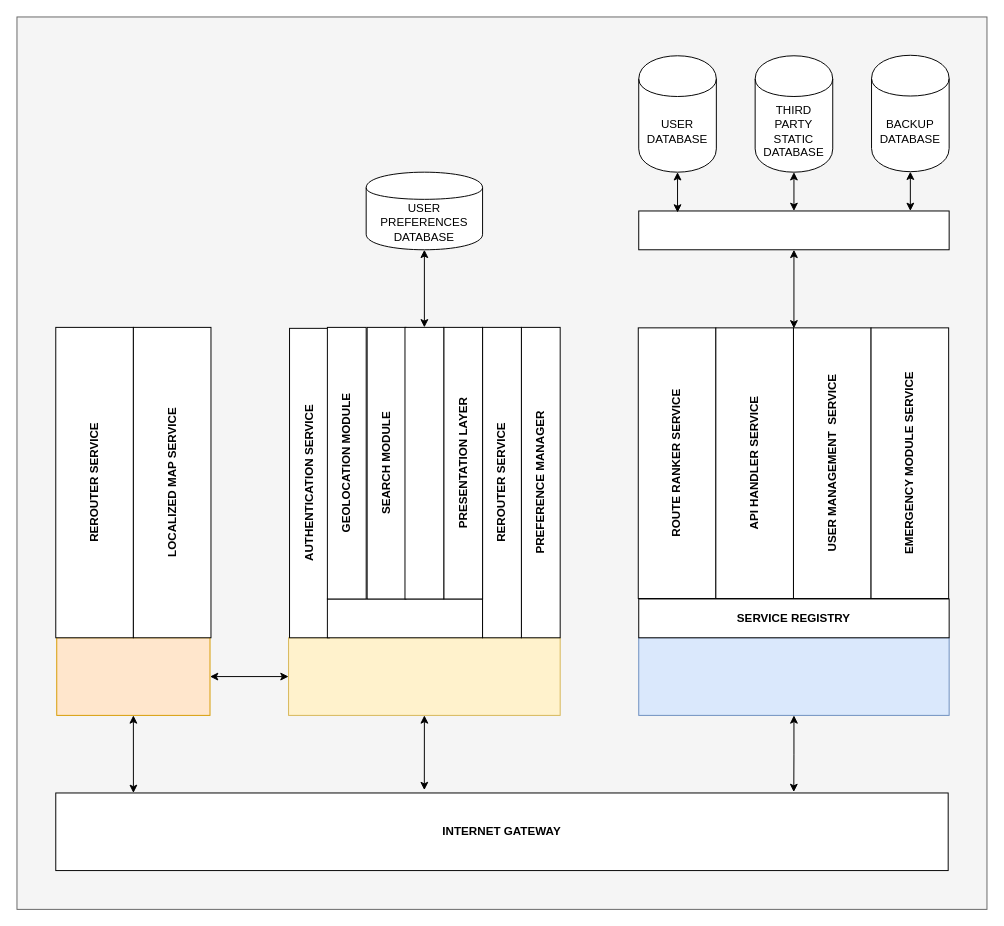
Image size: 1004x926. Some labels were removed from this diagram. The shapes that lost their labels are listed below. From the top down, each one's centre as x and y in pixels, then its label:
At [793,230]: "DATABASE MANAGEMENT".
At [424,462]: "GEO-CODING MODULE".
At [404,618]: "MAPS SDK".
At [133,676]: "EDGE NODE".
At [424,676]: "ANDROID APPLICATION".
At [793,676]: "WEB SERVER".
